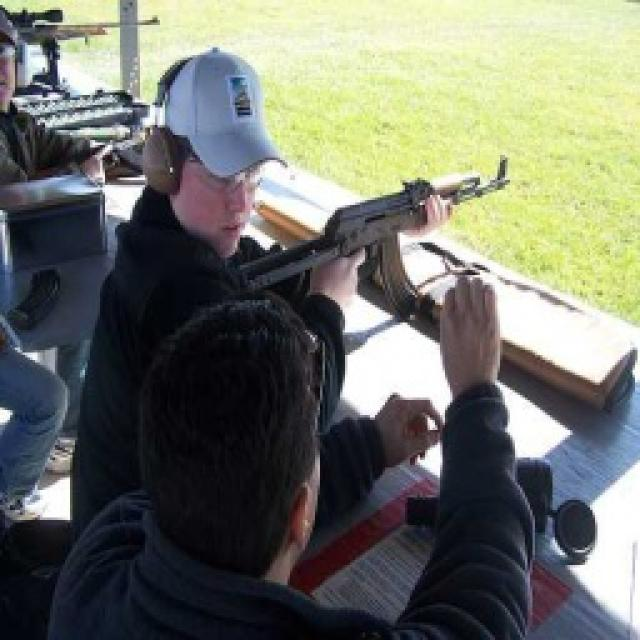long weapon: (219, 164, 542, 330)
